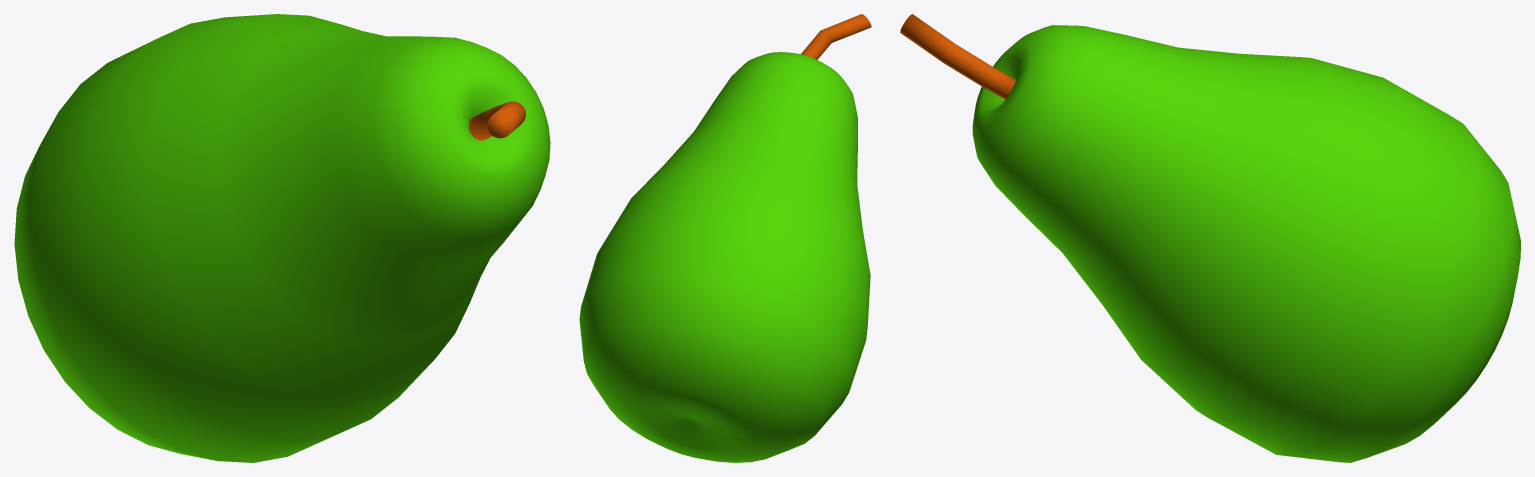
File: fruit_03.dae
The picture shows the model from 3 angles, left to right: view 1: azimuth 30°, elevation 25°; view 2: azimuth 150°, elevation 25°; view 3: azimuth 270°, elevation 25°; orthographic projection. The views are drawn at different scales.
Parts seen in each view (by area): view 1: Sphere_001; view 2: Sphere_001; view 3: Sphere_001.
Part boxes in pixels (bbox=[...]): Sphere_001: bbox=[14, 14, 550, 462]; Sphere_001: bbox=[579, 14, 871, 462]; Sphere_001: bbox=[900, 14, 1520, 462].
Size of the model in its own units: 1.88 by 2.99 by 2.33.
